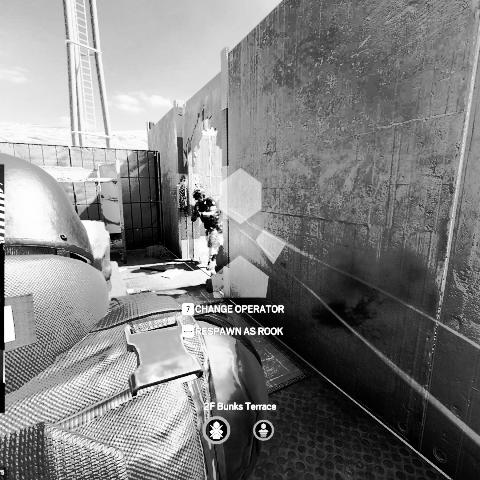Character: (0, 146, 274, 480), (191, 187, 224, 272)
Head: (192, 188, 206, 204)
